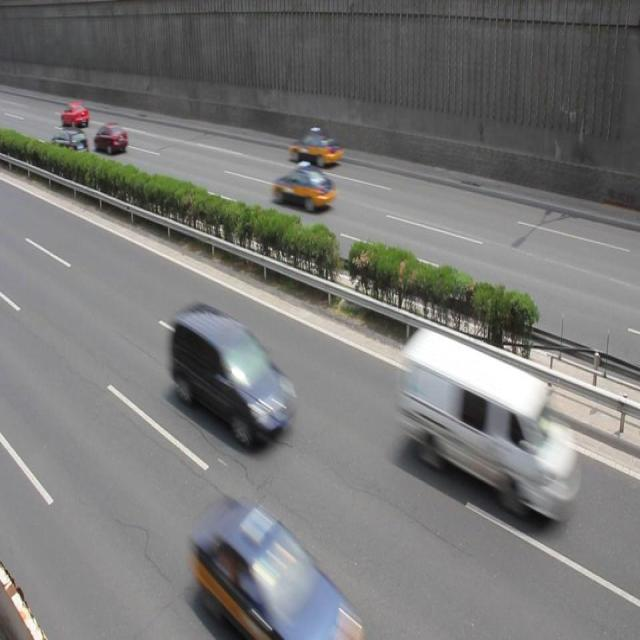car: (196, 497, 344, 632), (272, 162, 336, 214), (288, 130, 344, 168), (50, 128, 89, 167), (92, 122, 128, 158), (60, 100, 90, 131)
truck: (399, 326, 567, 519), (170, 302, 299, 450)
